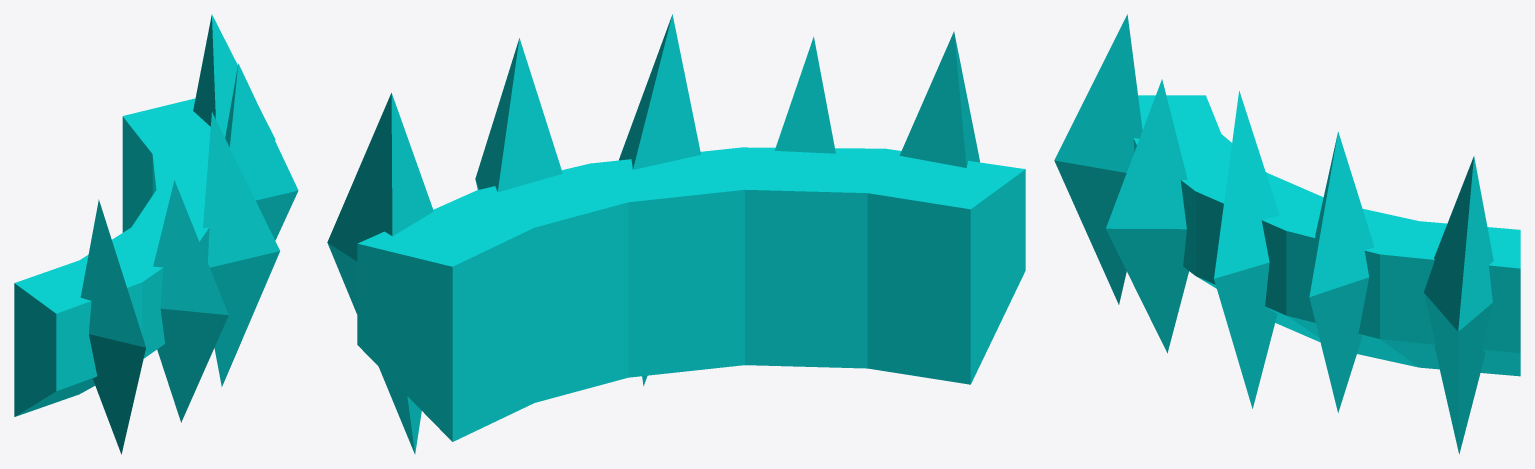
The model's file is SM_Bld_Battlements_L_Curve_03_Collision.fbx.
3 renders of one model, left to right at view 1: azimuth 30°, elevation 25°; view 2: azimuth 150°, elevation 25°; view 3: azimuth 270°, elevation 25°, orthographic. The views are drawn at different scales.
Parts seen in each view (by area): view 1: SM_Bld_Battlements_L_Curve_03_Collision; view 2: SM_Bld_Battlements_L_Curve_03_Collision; view 3: SM_Bld_Battlements_L_Curve_03_Collision.
Part boxes in pixels (x1,y1,x2,y2): SM_Bld_Battlements_L_Curve_03_Collision: (14, 14, 298, 454); SM_Bld_Battlements_L_Curve_03_Collision: (327, 14, 1025, 454); SM_Bld_Battlements_L_Curve_03_Collision: (1054, 14, 1520, 454).
Size of the model in its own units: 524 by 382 by 515.
